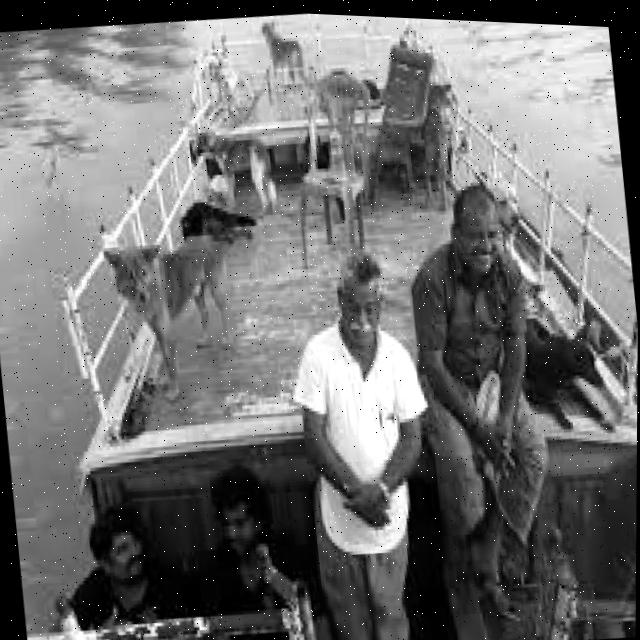civilian: (272, 240, 447, 640), (402, 178, 559, 610), (183, 450, 307, 640), (44, 478, 187, 640)
dog: (109, 219, 261, 410), (525, 309, 625, 434), (408, 76, 478, 203), (193, 112, 291, 199), (174, 190, 273, 257), (247, 16, 315, 90), (183, 154, 242, 219), (205, 56, 248, 124), (488, 177, 530, 238)
